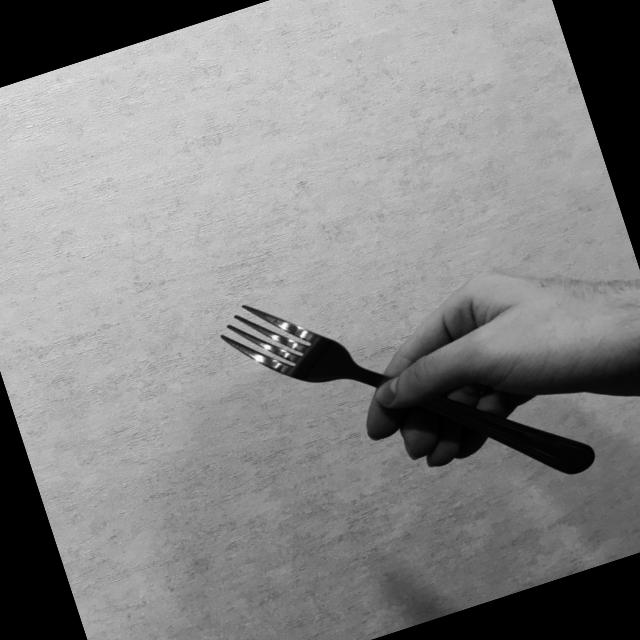fork: (214, 215, 604, 567)
